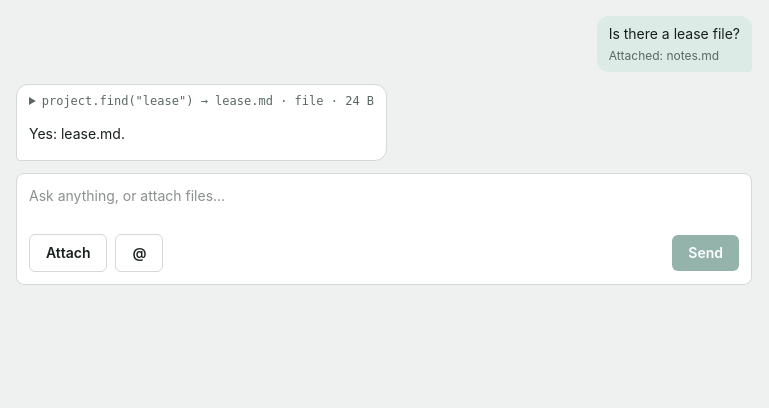
Test case: Adding files already in the project › arrows move through the list and Escape closes it
Expected: the text "Yes: lease.md." is shown, [29,125,125,142]
Type "@" into the text box named "Message" at (384, 206), box [29,186,739,226]
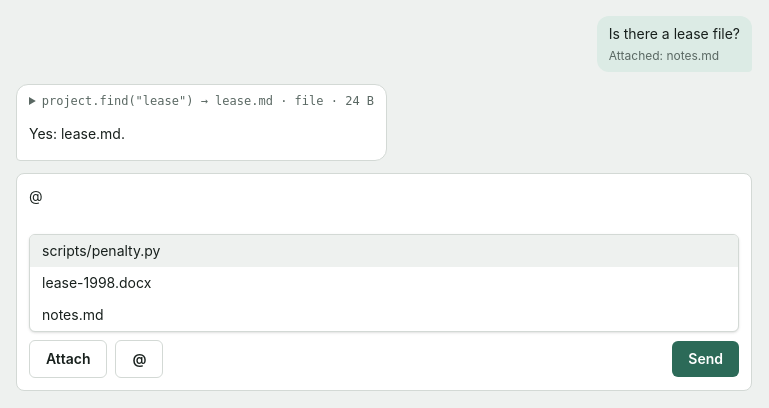
Press ArrowDown in the text box named "Message", box [29,186,739,226]
Now the option "lease-1998.docx" is shown, box [30,267,738,299]
Press Escape in the text box named "Message", box [29,186,739,226]
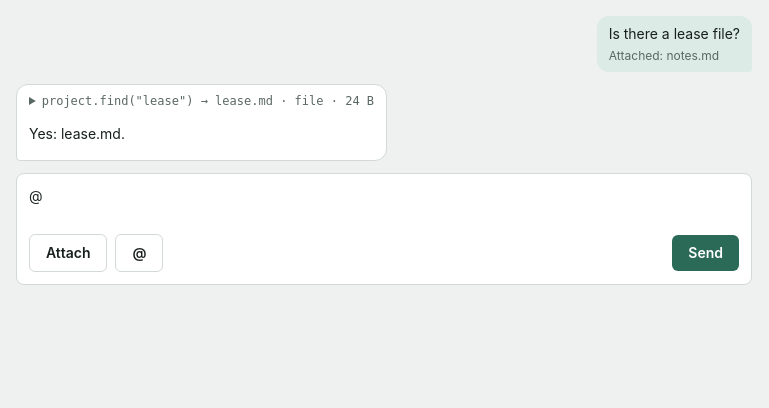
Now the list is gone
